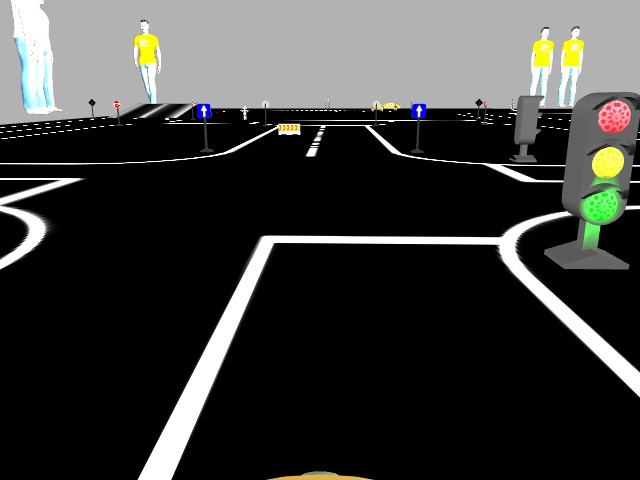ClosedRoadStand: (278, 123, 299, 135)
OneWay: (561, 91, 632, 225), (199, 102, 209, 119), (412, 103, 424, 117)
